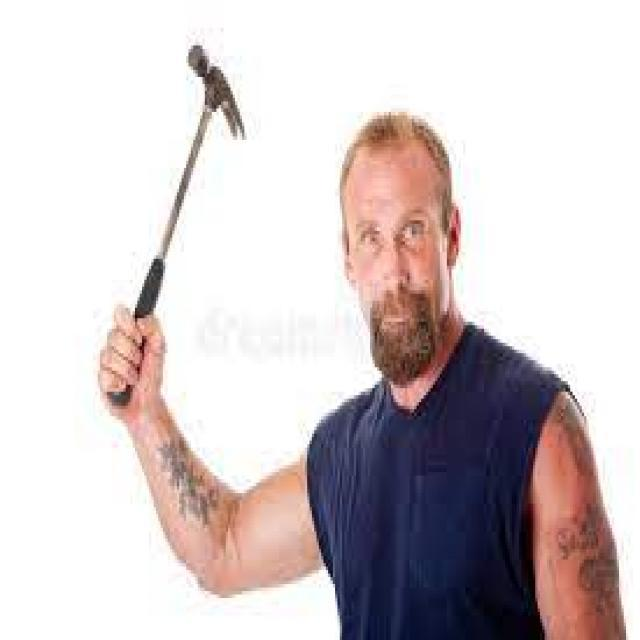hammer: (103, 41, 249, 412)
